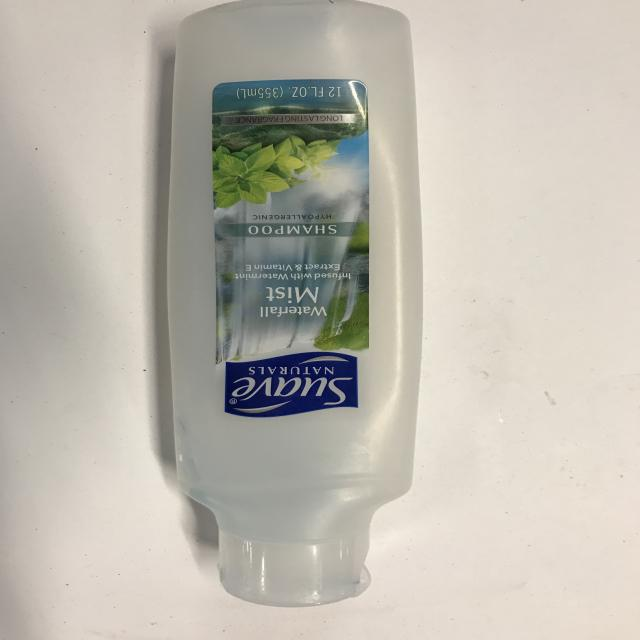plastic: (166, 0, 423, 607)
